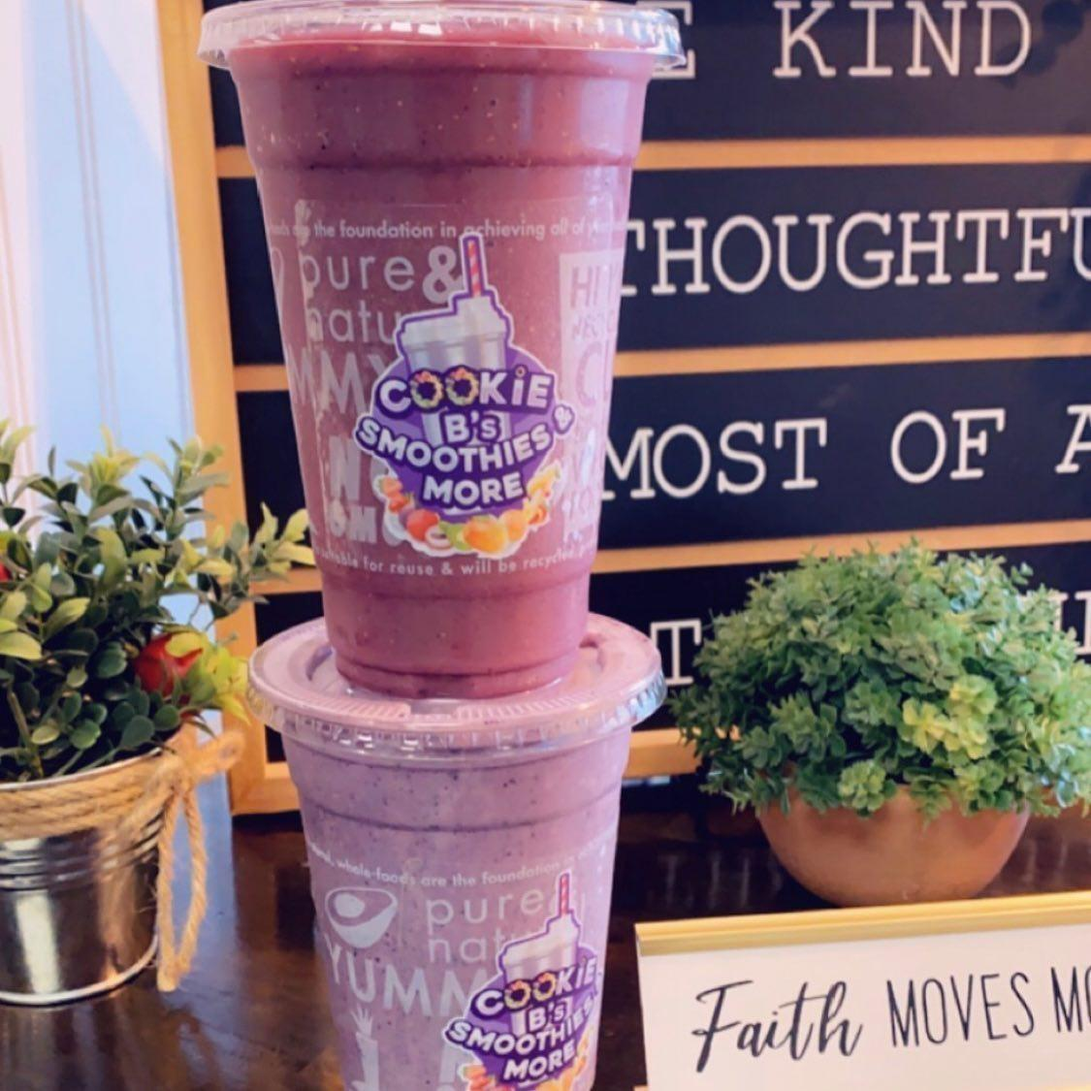cup-disposable: (183, 1, 704, 702), (239, 604, 667, 1091)
